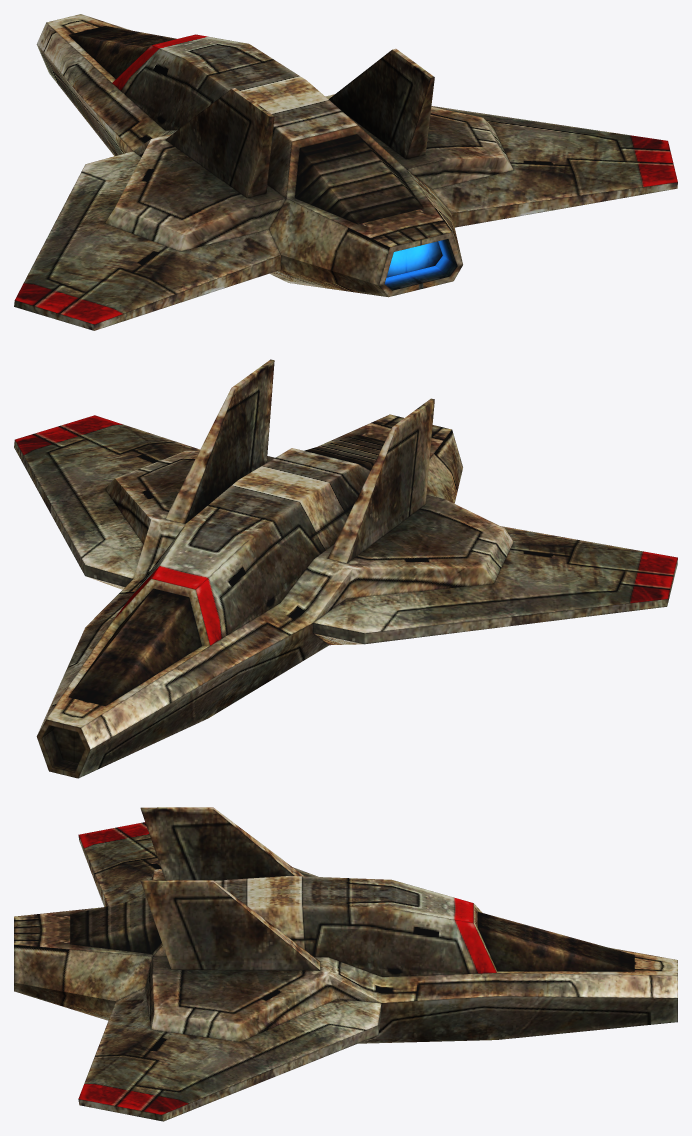
The model's file is Ship1.FBX.
3 renders of one model, top to bottom at view 1: azimuth 30°, elevation 25°; view 2: azimuth 150°, elevation 25°; view 3: azimuth 270°, elevation 25°, orthographic. The views are drawn at different scales.
Visible parts, largest first — view 1: space_frigate_0; view 2: space_frigate_0; view 3: space_frigate_0.
Part boxes in pixels (<box>): space_frigate_0: <box>14,14,677,330</box>; space_frigate_0: <box>14,359,677,778</box>; space_frigate_0: <box>14,807,677,1121</box>.
Size of the model in its own units: 0.7116 by 0.195 by 0.6744.
Materials: 1 (1 with a texture image).
